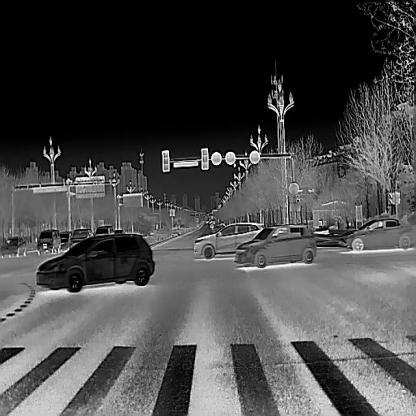car: (35, 232, 155, 291), (233, 223, 317, 267), (192, 221, 266, 258), (338, 219, 416, 250), (36, 228, 60, 254), (1, 234, 26, 258), (69, 228, 93, 248), (95, 224, 115, 239), (59, 231, 72, 249)
